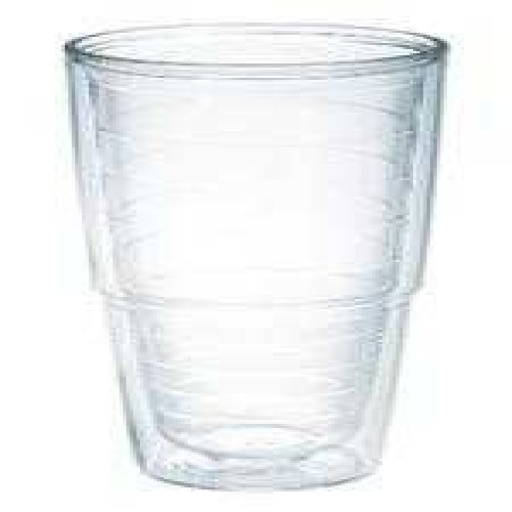cup: (62, 23, 451, 492)
